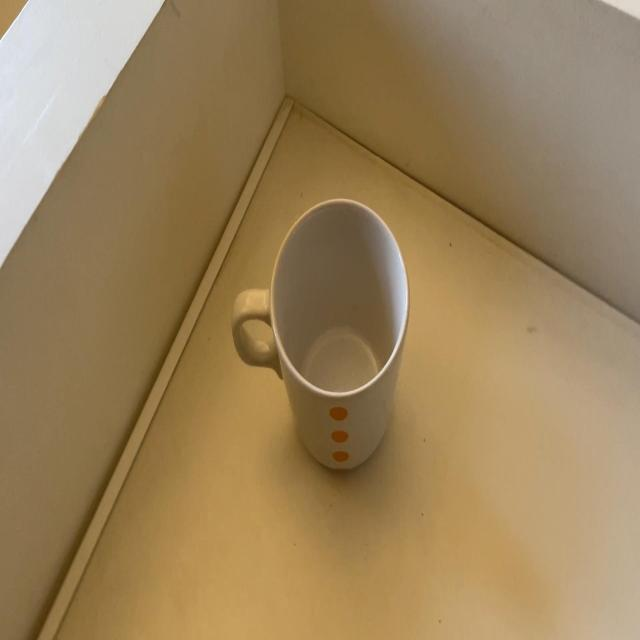cup: (246, 197, 411, 476)
